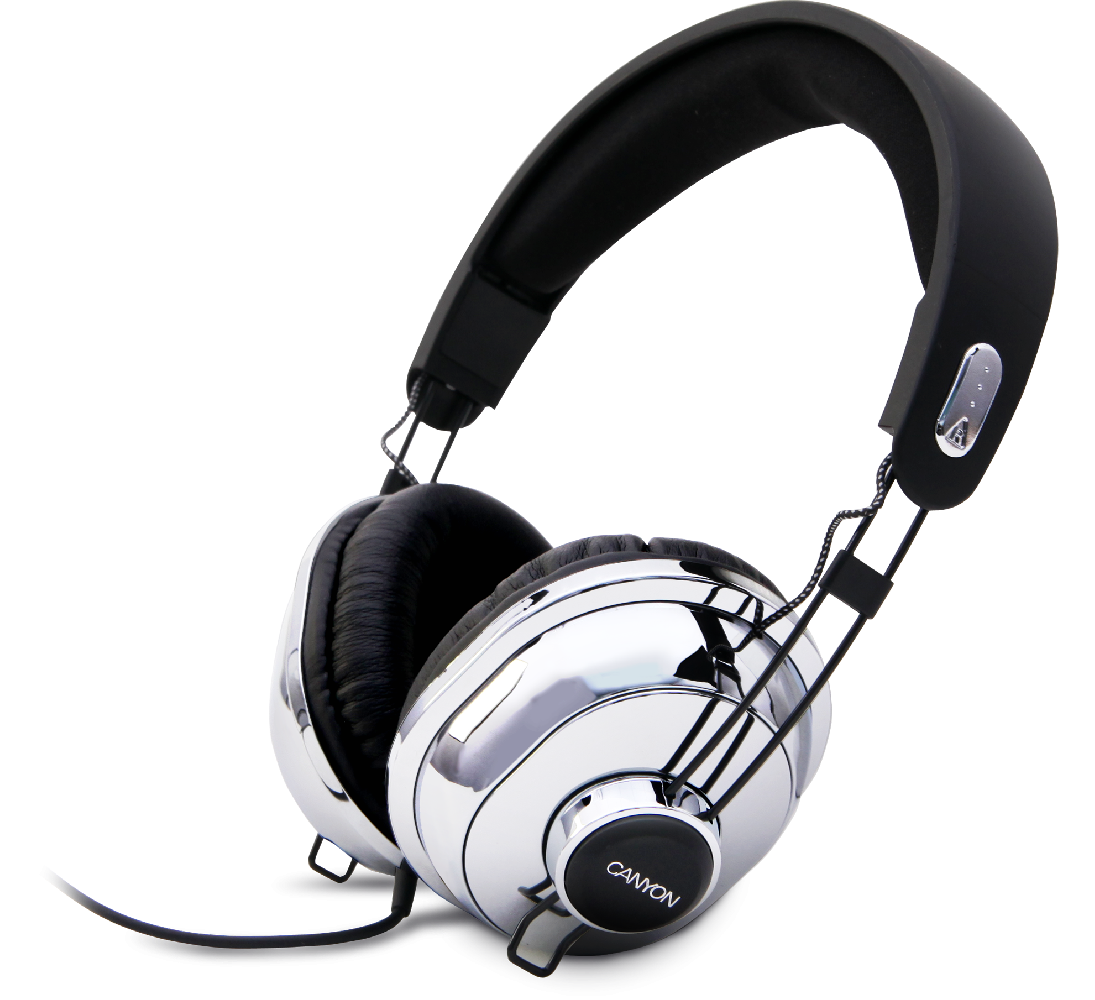headphone: (289, 7, 1095, 915)
